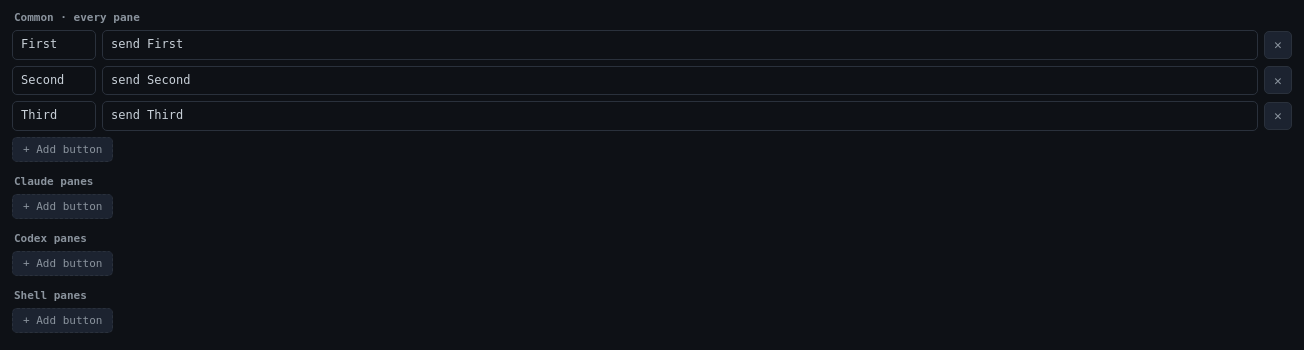
Scenario: QuickEditor › keeps focus in the sensible row after deleting the first row
What coordinates should you click on to do the following:
click the 1st button "✕"
I would click on:
 (1278, 45)
Its box is [1264,31,1292,59].
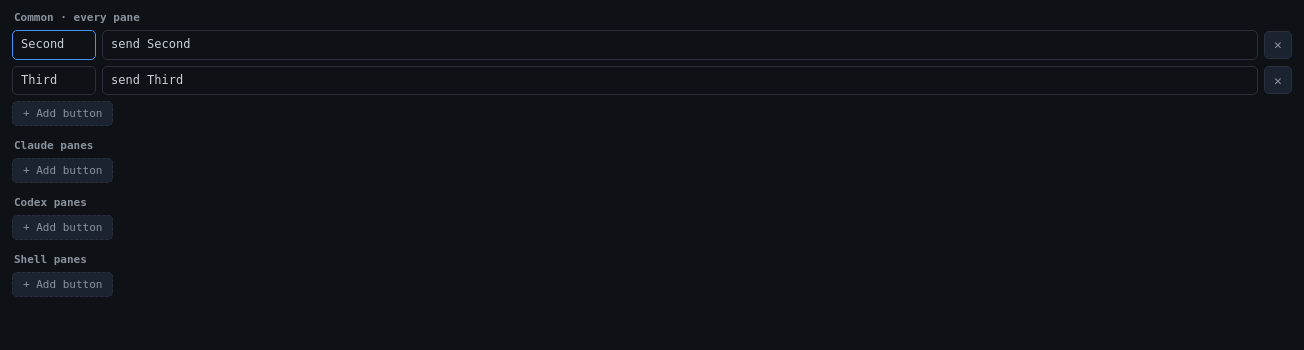
Expected: the field named "Common · every pane button 1 label" holds "Second", [12,30,96,60]
